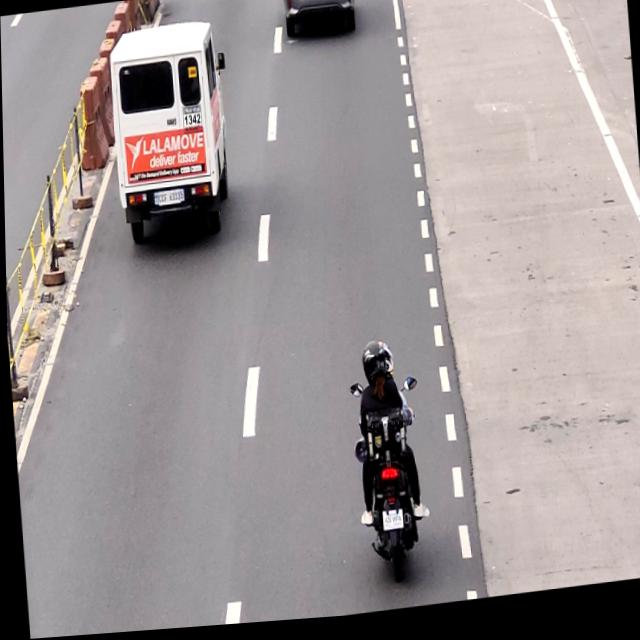Car: (110, 20, 230, 243), (278, 0, 355, 40)
License-Plate: (154, 189, 181, 210), (379, 515, 403, 538)
Motorcycle: (348, 343, 425, 603)
